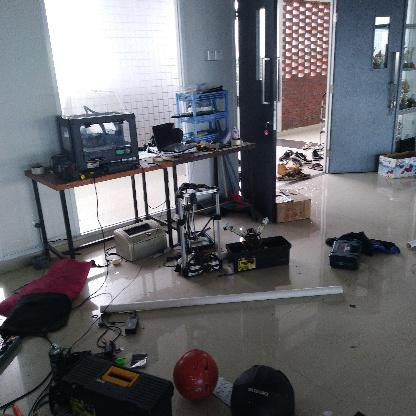red_buoy: (171, 346, 220, 400)
